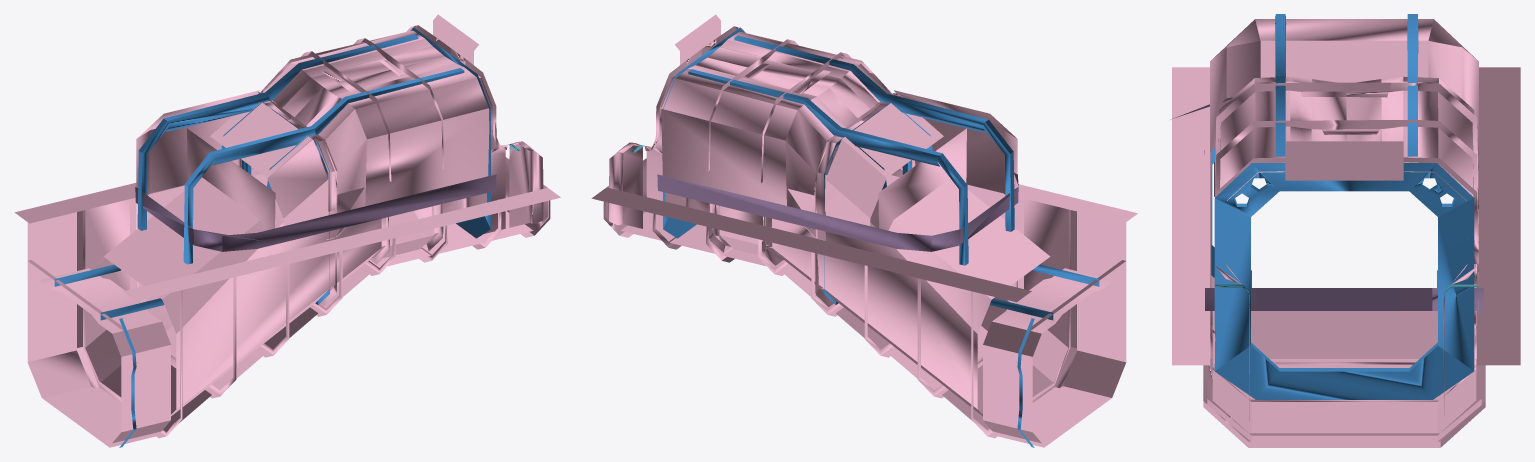
The model's file is ext_landingpad_floor_center_stair_16x08x10_b.glb.
The picture shows the model from 3 angles, left to right: view 1: azimuth 30°, elevation 25°; view 2: azimuth 150°, elevation 25°; view 3: azimuth 270°, elevation 25°; orthographic projection. The views are drawn at different scales.
Bounding box in the file's own units: 16 × 10.9 × 8.
